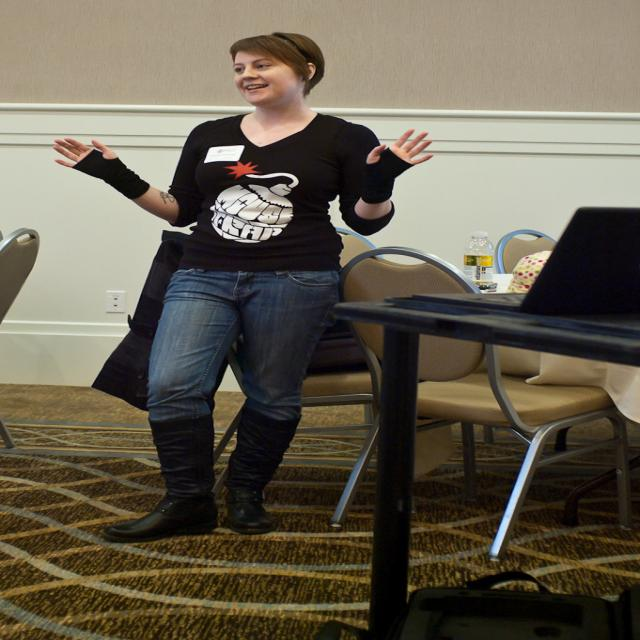desk: (326, 252, 600, 600)
person: (50, 23, 434, 542)
